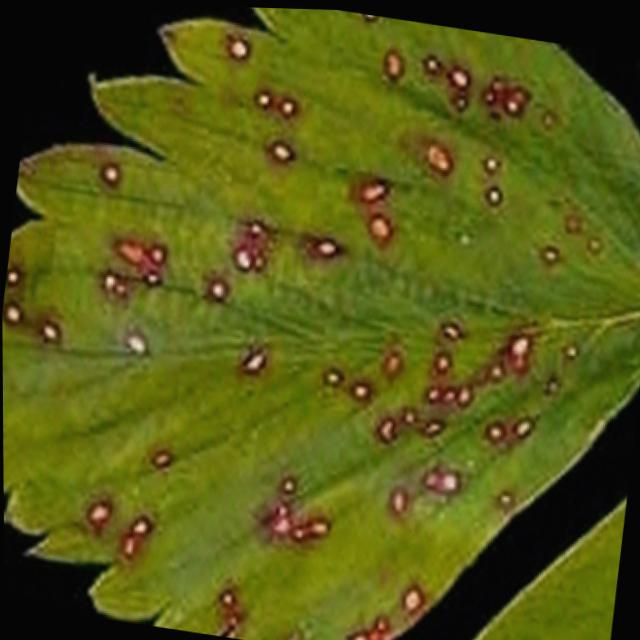Leaf Spot: (2, 6, 640, 640)
